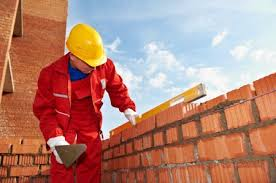casco: (66, 23, 108, 67)
